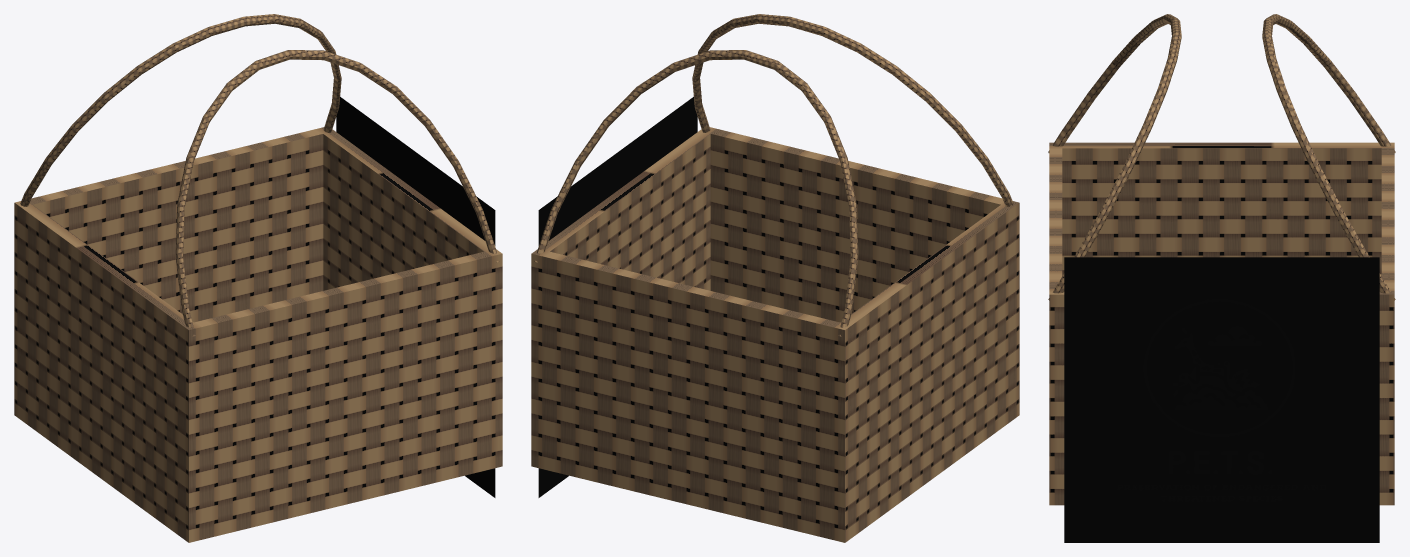
File: Basket.fbx
3 renders of one model, left to right at view 1: azimuth 30°, elevation 25°; view 2: azimuth 150°, elevation 25°; view 3: azimuth 270°, elevation 25°, orthographic.
Parts seen in each view (by area): view 1: Cube, PETS Logo Transparent, Torus.001, Torus.009; view 2: Cube, PETS Logo Transparent, Torus.009, Torus.001; view 3: PETS Logo Transparent, Cube, Torus.009, Torus.001.
Part boxes in pixels (box(x1,y1,x2,y2)): Cube: box(14, 127, 502, 542); PETS Logo Transparent: box(336, 97, 495, 497); Torus.001: box(175, 50, 499, 336); Torus.009: box(20, 14, 341, 206); Cube: box(531, 127, 1019, 542); PETS Logo Transparent: box(538, 97, 697, 497); Torus.009: box(534, 50, 858, 336); Torus.001: box(692, 14, 1013, 206); PETS Logo Transparent: box(1064, 257, 1379, 542); Cube: box(1049, 142, 1394, 505); Torus.009: box(1262, 14, 1395, 300); Torus.001: box(1048, 14, 1181, 300).
Bounding box in the file's own units: 541 × 729 × 523.
